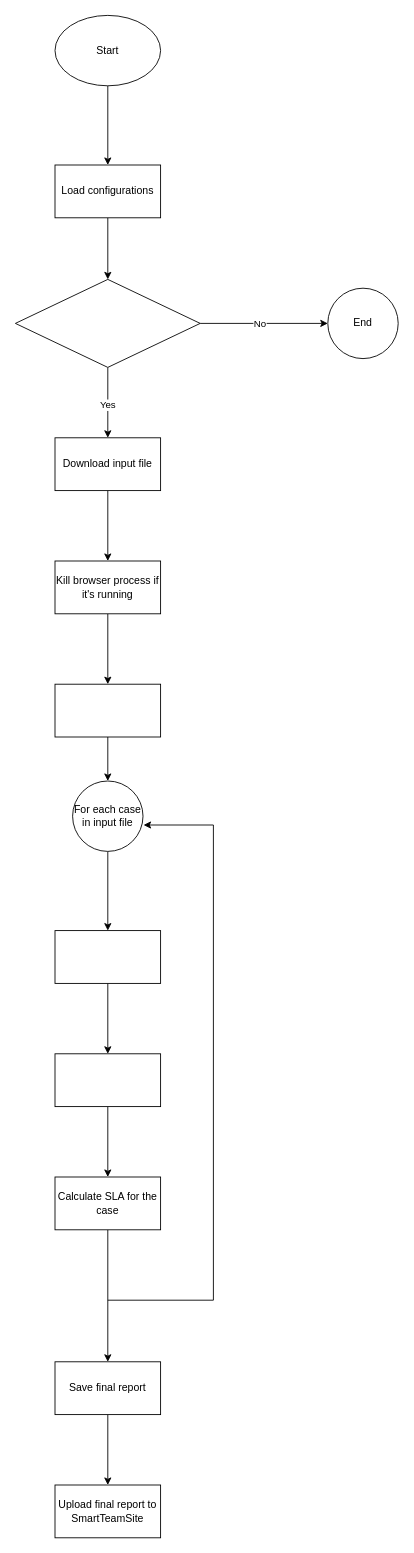
The diagram is 414 pixels wide and 1553 high, and some of its shapes have lost their labels. The shapes that lost their labels are listed below. From the top down, each one's centre as x and y in pixels, then its label:
At [107,323]: "Is there an input file on SmartTeamSite?".
At [107,710]: "Read input file".
At [107,956]: "Navigate to case on NTRA portal".
At [107,1080]: "Extract updates table".
